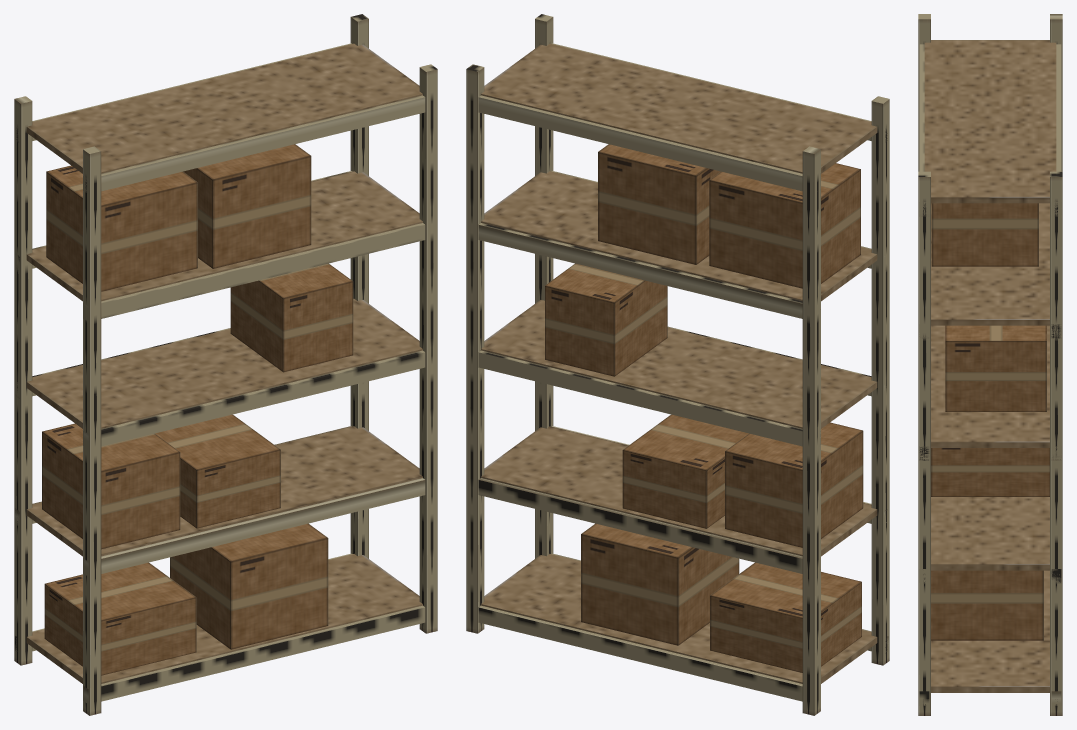
File: Furn_Shelf_Steel.fbx
The picture shows the model from 3 angles, left to right: view 1: azimuth 30°, elevation 25°; view 2: azimuth 150°, elevation 25°; view 3: azimuth 270°, elevation 25°; orthographic projection. The views are drawn at different scales.
Visible parts, largest first — view 1: Furn_Shelf_Steel; view 2: Furn_Shelf_Steel; view 3: Furn_Shelf_Steel.
Boxes of the visible parts, x1,y1,x2,y2 form: Furn_Shelf_Steel: [14, 14, 437, 715]; Furn_Shelf_Steel: [466, 14, 889, 715]; Furn_Shelf_Steel: [918, 14, 1062, 715].
Size of the model in its own units: 1.2 by 1.85 by 0.45.
